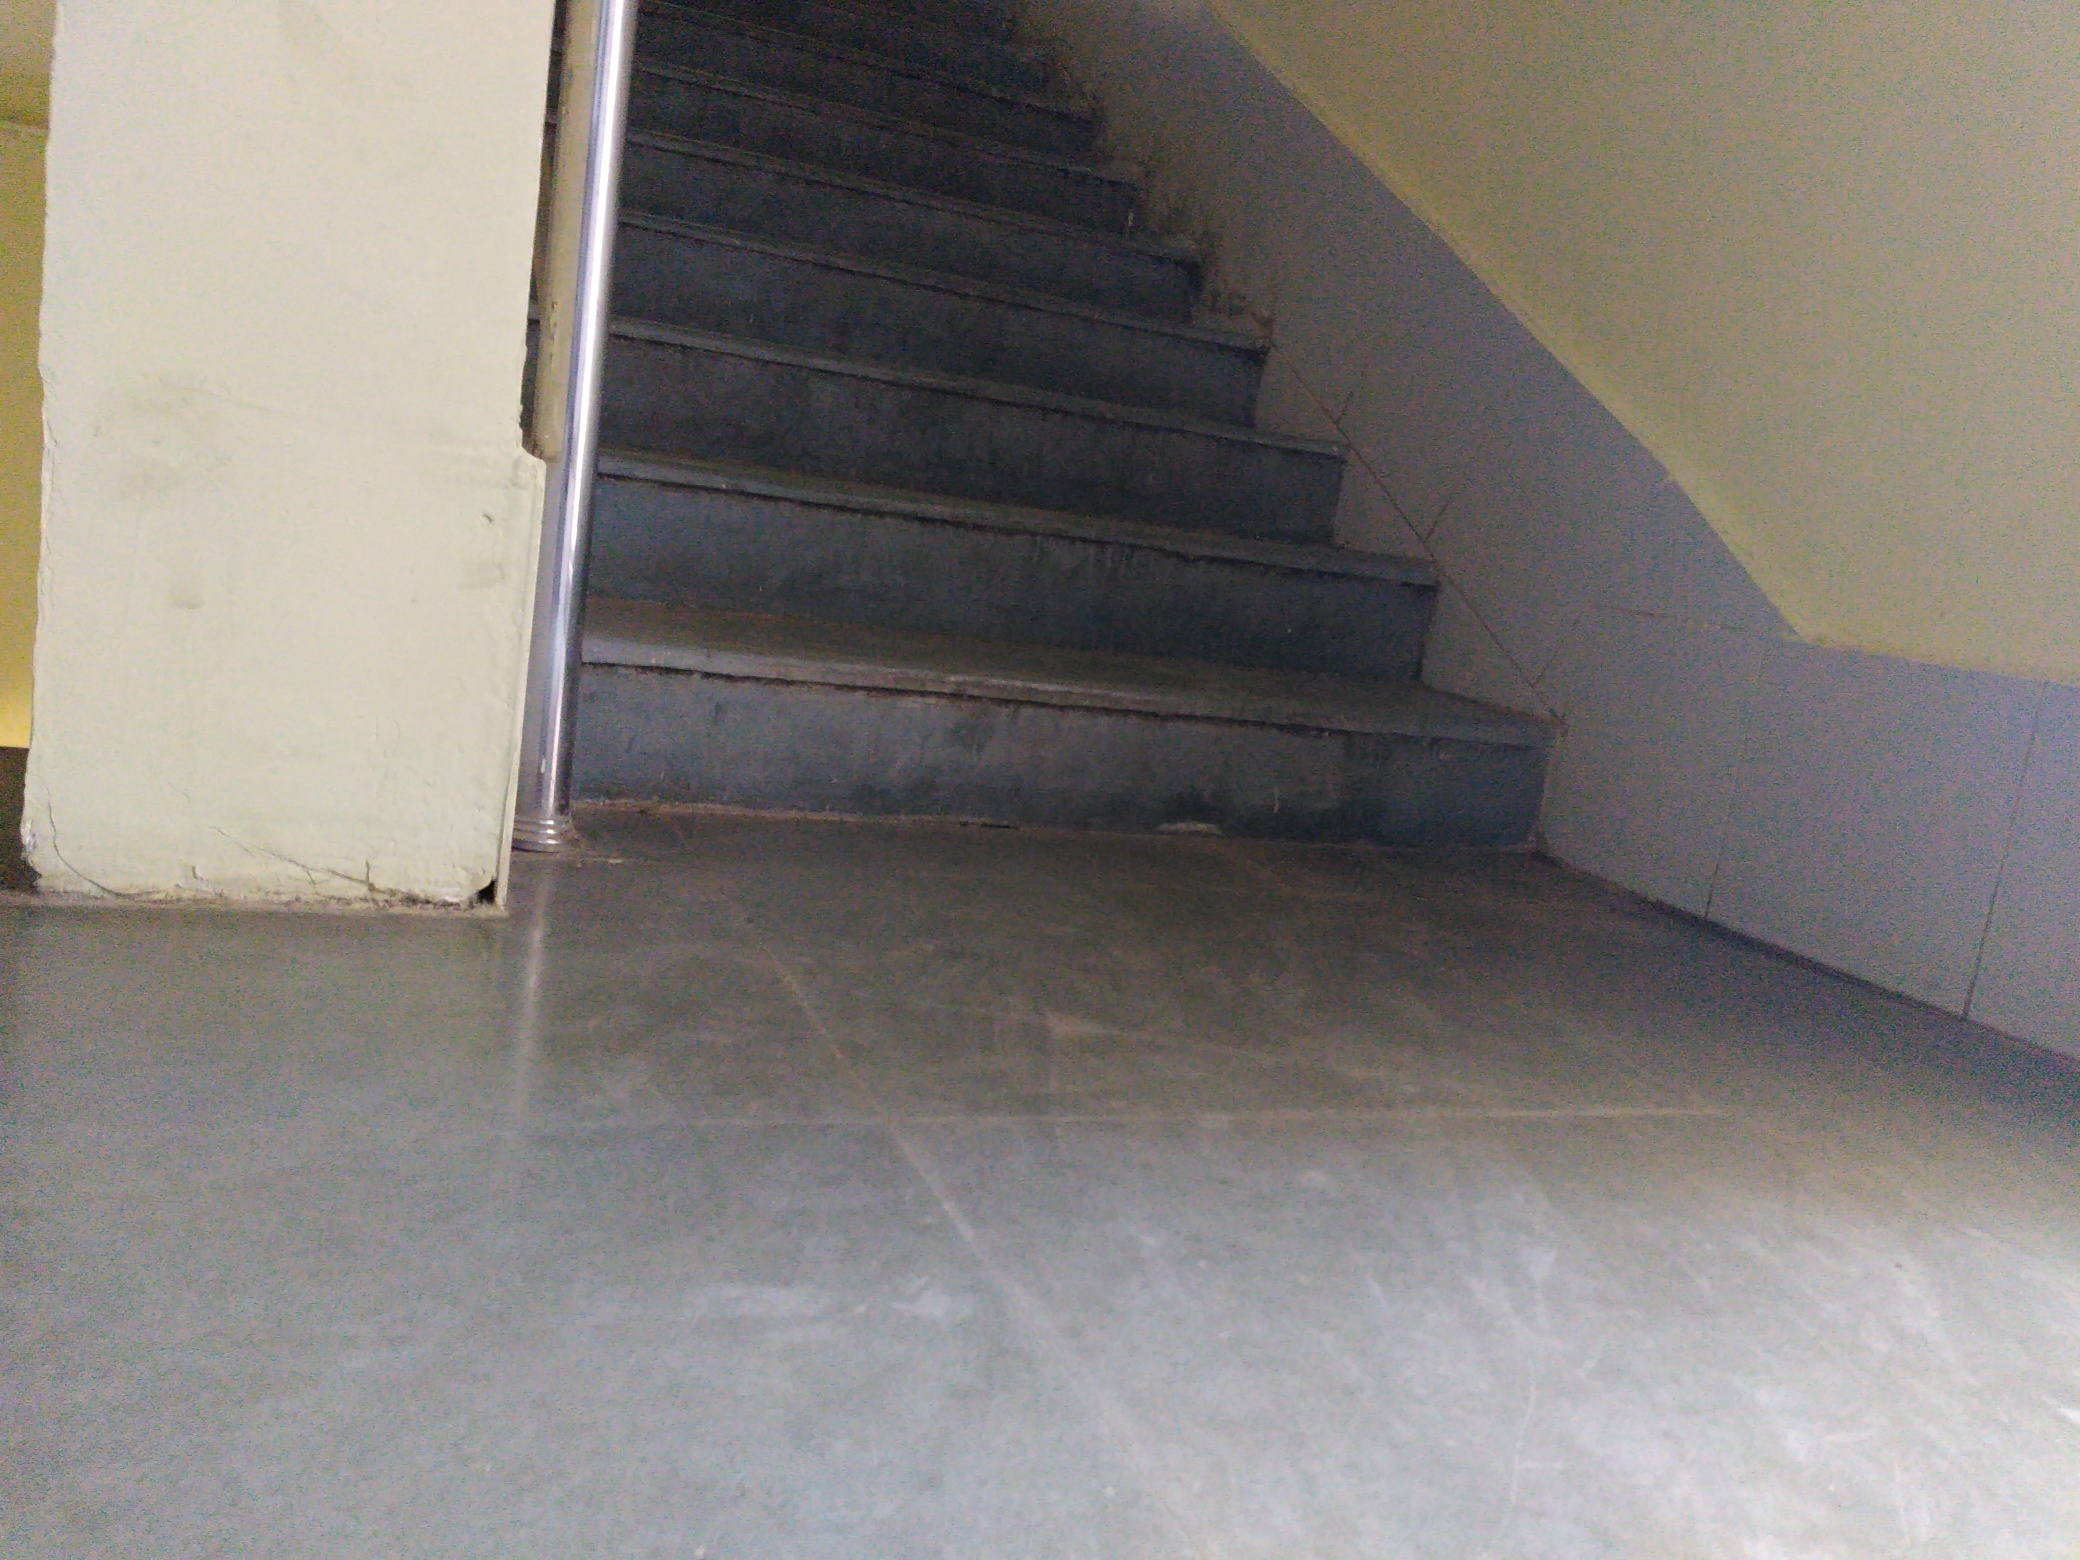stairs_up: (585, 77, 1525, 846)
